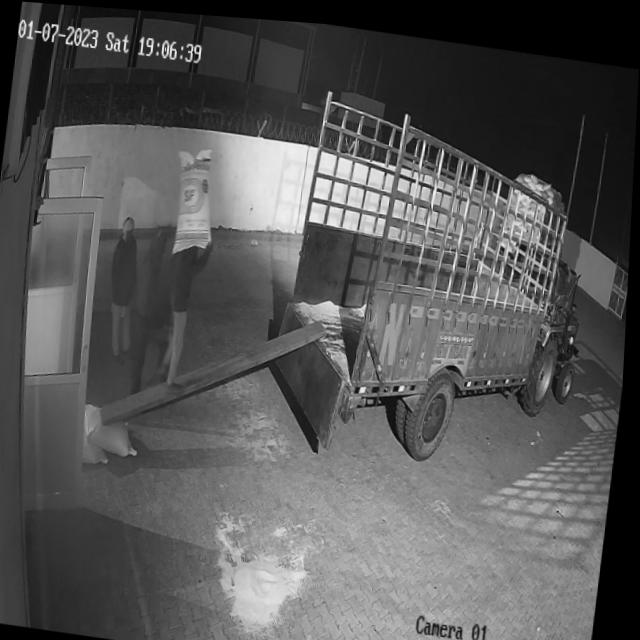sack: (168, 141, 223, 257), (84, 400, 145, 456)
